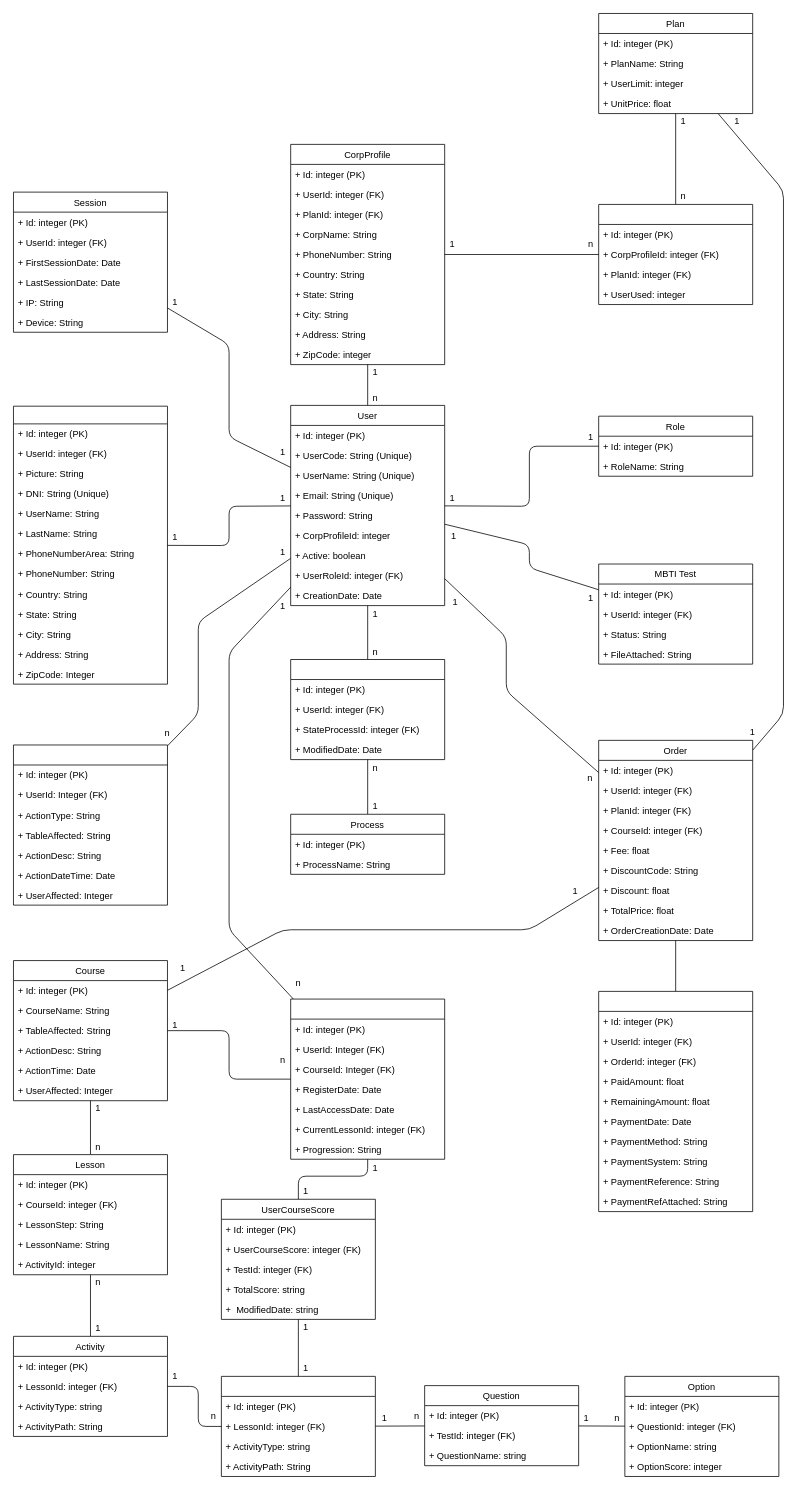
Some shapes in this 798 by 1492 pixel diagram are drawn without their labels. Each missing label, with the box of its shape:
CorpPlan: (598, 204, 753, 305)
Invoice: (598, 991, 753, 1212)
Log: (13, 744, 167, 905)
Profile: (13, 405, 167, 684)
Test: (221, 1376, 375, 1476)
UserCourse: (290, 998, 445, 1159)
UserStatus: (290, 659, 445, 760)
